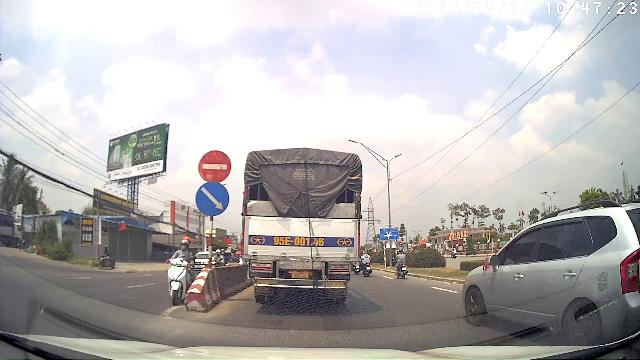102-cam-di-nguoc-chieu: (198, 149, 232, 182)
302a-huong-phai-di-vong-chuong-ngai-vat-1: (195, 182, 230, 216)
